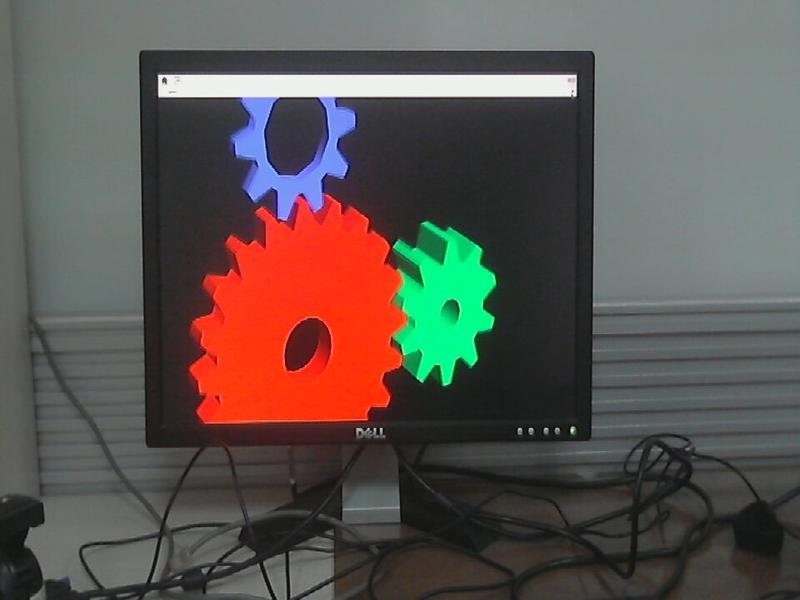glxgears_pass: (158, 76, 511, 423)
